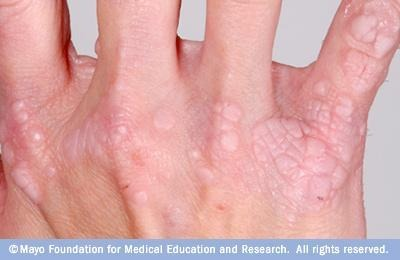Warts: (0, 80, 364, 243), (336, 1, 399, 80)
